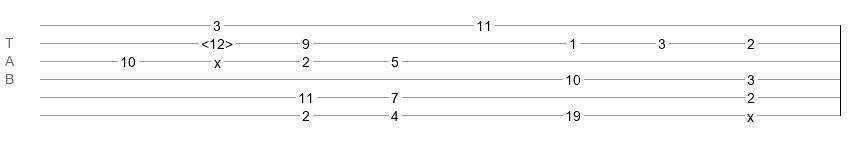1: (569, 36, 577, 46)
10: (120, 54, 136, 64), (565, 72, 581, 82)
11: (298, 90, 314, 100), (476, 18, 492, 28)
19: (565, 108, 581, 118)
2: (302, 54, 310, 64), (302, 108, 310, 118), (747, 36, 755, 46), (747, 90, 755, 100)
3: (213, 18, 221, 28), (658, 36, 666, 46), (747, 72, 755, 82)
4: (391, 108, 399, 118)
5: (391, 54, 399, 64)
7: (391, 90, 399, 100)
9: (302, 36, 310, 46)
harmonic: (201, 36, 233, 46)
x: (214, 55, 221, 63), (747, 109, 754, 117)
